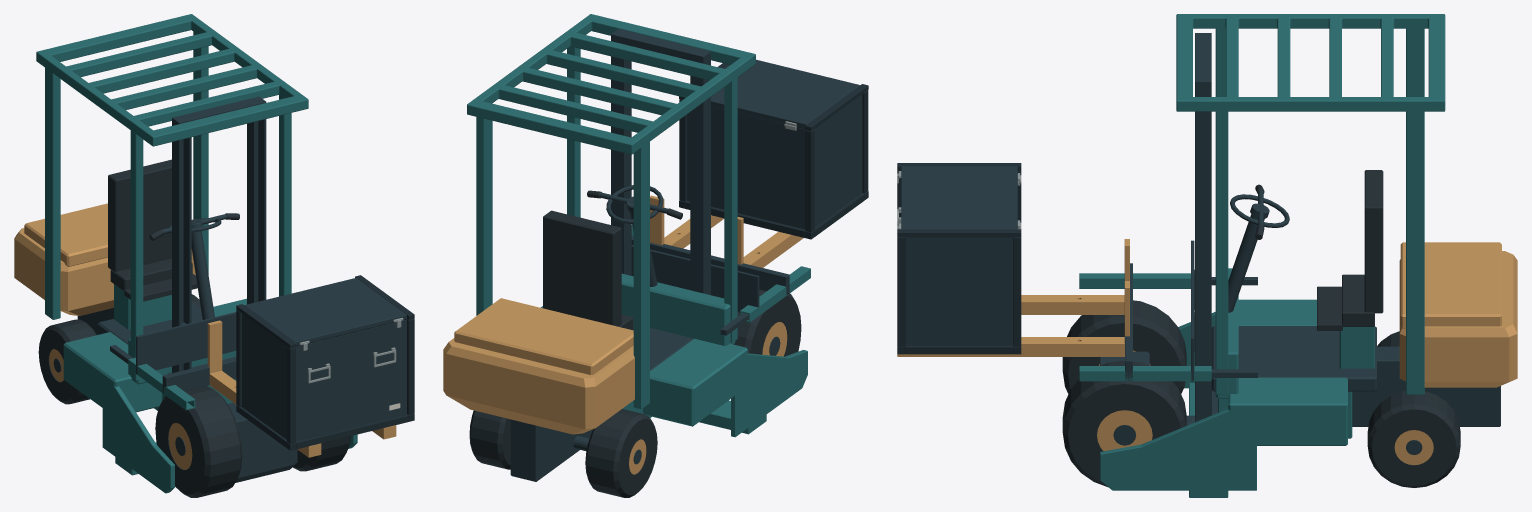
The model's file is forklift-loaded-heavy-box.glb.
3 renders of one model, left to right at view 1: azimuth 30°, elevation 25°; view 2: azimuth 150°, elevation 25°; view 3: azimuth 270°, elevation 25°, orthographic. The views are drawn at different scales.
Parts seen in each view (by area): view 1: forklift-loaded-heavy-box__batch_01, forklift-loaded-heavy-box__batch_27, forklift-loaded-heavy-box__batch_00, forklift-loaded-heavy-box__batch_02, forklift-loaded-heavy-box__batch_23, forklift-loaded-heavy-box__batch_19, forklift-loaded-heavy-box__batch_24, forklift-loaded-heavy-box__batch_03, forklift-loaded-heavy-box__batch_11, forklift-loaded-heavy-box__batch_05, forklift-loaded-heavy-box__batch_04, forklift-loaded-heavy-box__batch_22 (+4 smaller); view 2: forklift-loaded-heavy-box__batch_01, forklift-loaded-heavy-box__batch_02, forklift-loaded-heavy-box__batch_27, forklift-loaded-heavy-box__batch_00, forklift-loaded-heavy-box__batch_23, forklift-loaded-heavy-box__batch_11, forklift-loaded-heavy-box__batch_24, forklift-loaded-heavy-box__batch_03, forklift-loaded-heavy-box__batch_19, forklift-loaded-heavy-box__batch_14, forklift-loaded-heavy-box__batch_04, forklift-loaded-heavy-box__batch_05 (+4 smaller); view 3: forklift-loaded-heavy-box__batch_01, forklift-loaded-heavy-box__batch_27, forklift-loaded-heavy-box__batch_00, forklift-loaded-heavy-box__batch_02, forklift-loaded-heavy-box__batch_22, forklift-loaded-heavy-box__batch_14, forklift-loaded-heavy-box__batch_23, forklift-loaded-heavy-box__batch_24, forklift-loaded-heavy-box__batch_19, forklift-loaded-heavy-box__batch_08, forklift-loaded-heavy-box__batch_06, forklift-loaded-heavy-box__batch_05 (+4 smaller).
Part boxes in pixels (<box>): forklift-loaded-heavy-box__batch_01: <box>36,14,357,493</box>; forklift-loaded-heavy-box__batch_27: <box>242,278,406,441</box>; forklift-loaded-heavy-box__batch_00: <box>77,96,297,482</box>; forklift-loaded-heavy-box__batch_02: <box>14,203,195,315</box>; forklift-loaded-heavy-box__batch_23: <box>108,159,197,301</box>; forklift-loaded-heavy-box__batch_19: <box>155,386,242,497</box>; forklift-loaded-heavy-box__batch_24: <box>236,275,414,450</box>; forklift-loaded-heavy-box__batch_03: <box>136,312,236,374</box>; forklift-loaded-heavy-box__batch_11: <box>38,319,96,404</box>; forklift-loaded-heavy-box__batch_05: <box>207,320,321,457</box>; forklift-loaded-heavy-box__batch_04: <box>110,345,236,393</box>; forklift-loaded-heavy-box__batch_22: <box>292,436,350,471</box>; forklift-loaded-heavy-box__batch_01: <box>467,14,807,437</box>; forklift-loaded-heavy-box__batch_02: <box>443,298,634,434</box>; forklift-loaded-heavy-box__batch_27: <box>687,59,862,229</box>; forklift-loaded-heavy-box__batch_00: <box>510,28,710,481</box>; forklift-loaded-heavy-box__batch_23: <box>543,210,633,330</box>; forklift-loaded-heavy-box__batch_11: <box>585,409,657,497</box>; forklift-loaded-heavy-box__batch_24: <box>679,63,868,239</box>; forklift-loaded-heavy-box__batch_03: <box>631,245,759,312</box>; forklift-loaded-heavy-box__batch_19: <box>733,289,801,356</box>; forklift-loaded-heavy-box__batch_14: <box>469,410,510,469</box>; forklift-loaded-heavy-box__batch_04: <box>631,236,789,335</box>; forklift-loaded-heavy-box__batch_05: <box>737,217,803,267</box>; forklift-loaded-heavy-box__batch_01: <box>1100,14,1445,497</box>; forklift-loaded-heavy-box__batch_27: <box>901,166,1017,345</box>; forklift-loaded-heavy-box__batch_00: <box>1100,33,1500,426</box>; forklift-loaded-heavy-box__batch_02: <box>1399,242,1517,387</box>; forklift-loaded-heavy-box__batch_22: <box>1062,360,1186,486</box>; forklift-loaded-heavy-box__batch_14: <box>1367,391,1460,487</box>; forklift-loaded-heavy-box__batch_23: <box>1317,170,1383,330</box>; forklift-loaded-heavy-box__batch_24: <box>897,163,1021,354</box>; forklift-loaded-heavy-box__batch_19: <box>1062,300,1186,393</box>; forklift-loaded-heavy-box__batch_08: <box>1079,273,1211,381</box>; forklift-loaded-heavy-box__batch_06: <box>897,281,1129,356</box>; forklift-loaded-heavy-box__batch_05: <box>1021,239,1129,314</box>.
Size of the model in its own units: 1.2 by 2.1 by 3.
